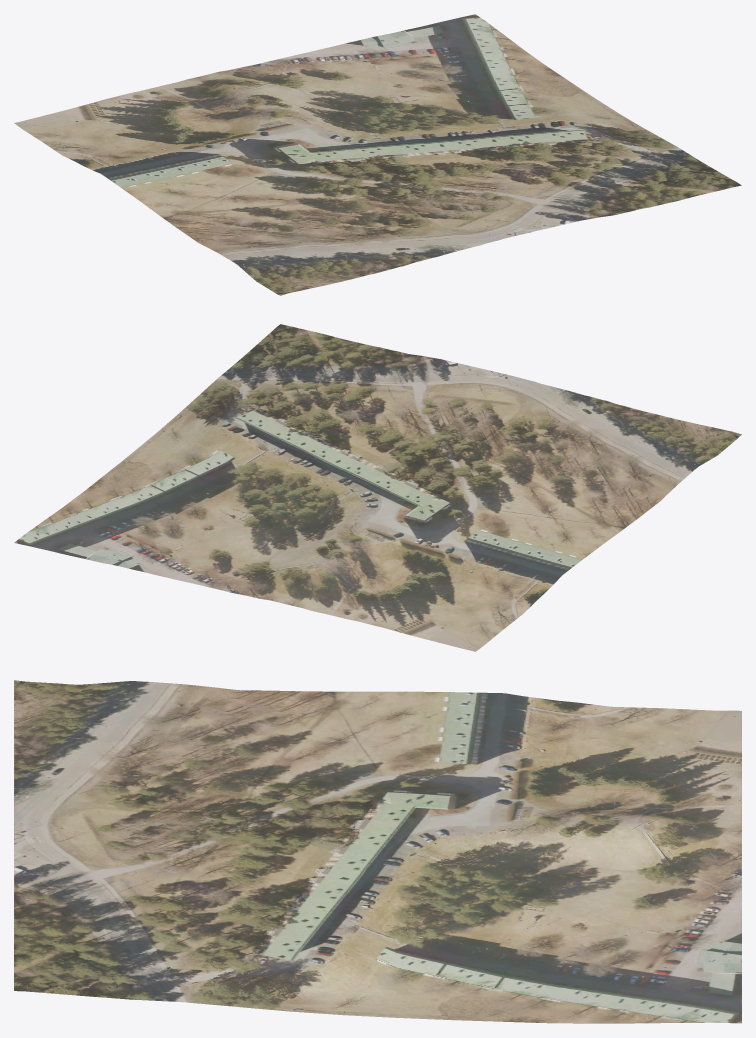
Rendered from CM_Terrain_24489230_6820613.fbx.
The picture shows the model from 3 angles, top to bottom: view 1: azimuth 30°, elevation 25°; view 2: azimuth 150°, elevation 25°; view 3: azimuth 270°, elevation 25°; orthographic projection. The views are drawn at different scales.
Parts seen in each view (by area): view 1: CM_Terrain_24489230_6820613_LOD0; view 2: CM_Terrain_24489230_6820613_LOD0; view 3: CM_Terrain_24489230_6820613_LOD0.
Boxes of the visible parts, x1=… form: CM_Terrain_24489230_6820613_LOD0: x1=14, y1=14, x2=741, y2=295; CM_Terrain_24489230_6820613_LOD0: x1=14, y1=324, x2=741, y2=651; CM_Terrain_24489230_6820613_LOD0: x1=14, y1=680, x2=741, y2=1023.
Size of what is drawn, in the model's own units: 205 by 12.19 by 205.
